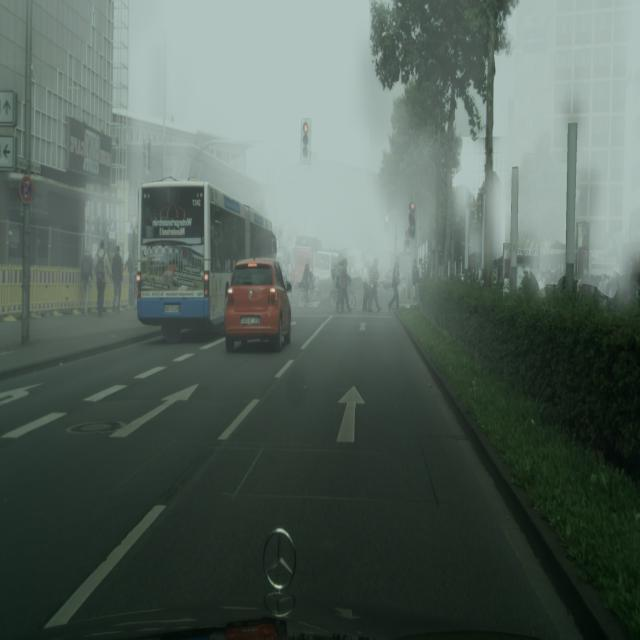car: (334, 281, 356, 313)
motorcycle: (136, 178, 277, 339)
person: (94, 241, 109, 318), (80, 247, 94, 314), (112, 244, 123, 313), (336, 258, 350, 312), (388, 256, 401, 311), (370, 255, 382, 313), (125, 251, 135, 308), (361, 258, 371, 312), (301, 259, 310, 304), (412, 258, 420, 304)
truck: (224, 258, 292, 354)
